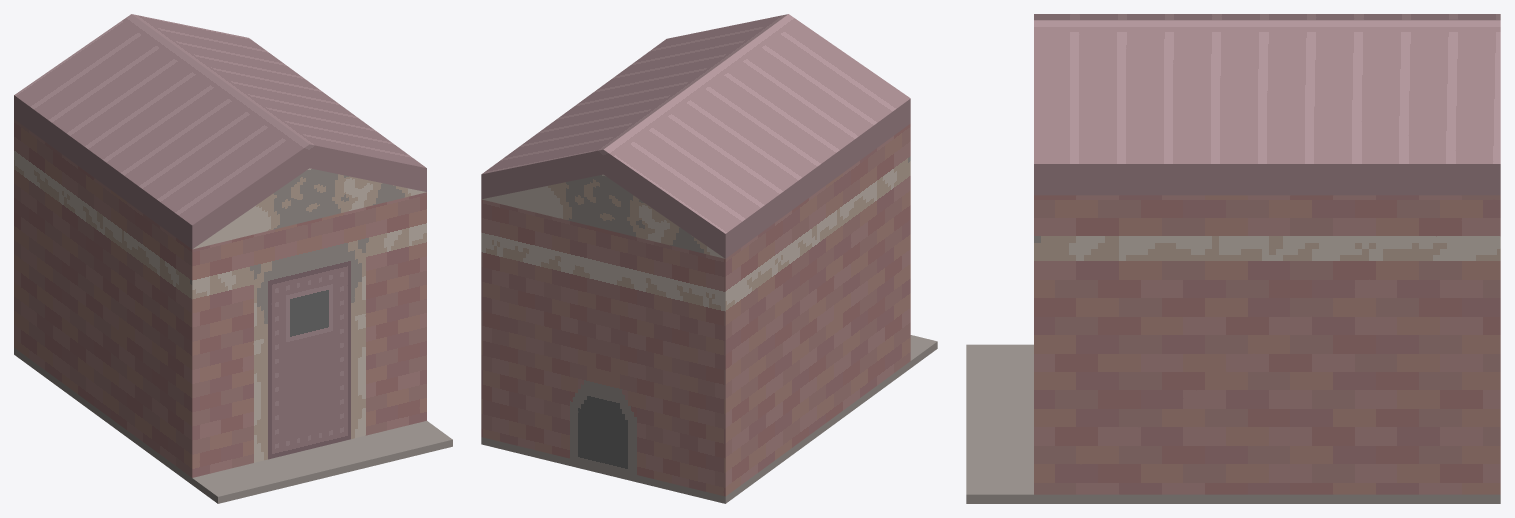
The model's file is 04f4_Boiler_Room.glb.
3 views of the same model, side by side, from view 1: azimuth 30°, elevation 25°; view 2: azimuth 150°, elevation 25°; view 3: azimuth 270°, elevation 25° (orthographic). The views are drawn at different scales.
Parts seen in each view (by area): view 1: part_0; view 2: part_0; view 3: part_0.
Boxes of the visible parts, x1,y1,x2,y2 form: part_0: [14, 14, 452, 503]; part_0: [481, 14, 937, 503]; part_0: [966, 14, 1500, 503].
Size of the model in its own units: 2.76 by 3.5 by 4.15.
Materials: 1 (1 with a texture image).
